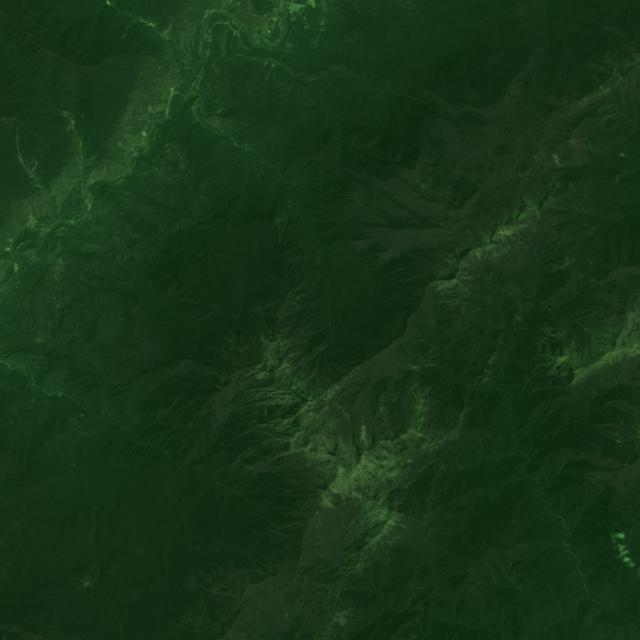landslides: (323, 1, 352, 27), (545, 581, 564, 615), (287, 12, 313, 31), (355, 268, 372, 297), (275, 203, 296, 225), (435, 263, 456, 284), (119, 18, 138, 39), (601, 357, 615, 380), (617, 348, 626, 377), (320, 493, 334, 511), (443, 257, 460, 271), (387, 518, 406, 530), (478, 227, 491, 244), (420, 339, 437, 352), (485, 325, 504, 336), (461, 258, 477, 271), (469, 232, 482, 247), (466, 251, 478, 266), (619, 153, 635, 164), (272, 177, 283, 192), (278, 224, 285, 244), (355, 3, 361, 26), (316, 510, 323, 529), (553, 153, 562, 167), (627, 129, 638, 140), (472, 249, 482, 261), (532, 207, 540, 221)
